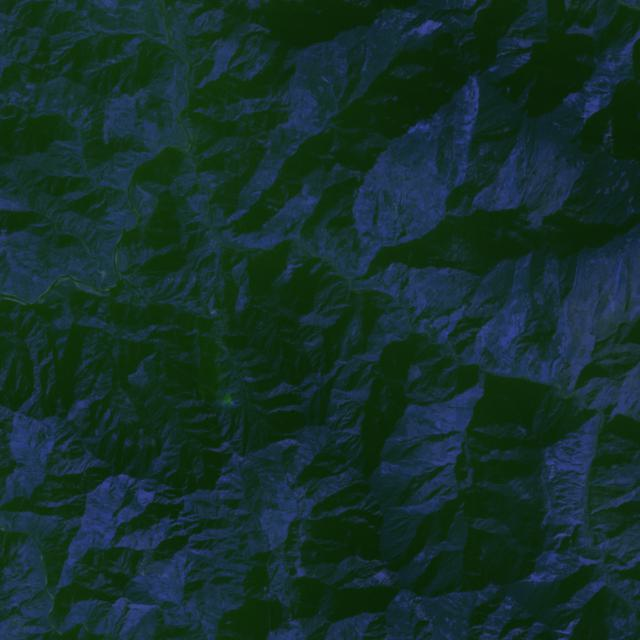landslides: (505, 27, 523, 38), (121, 6, 154, 12)
